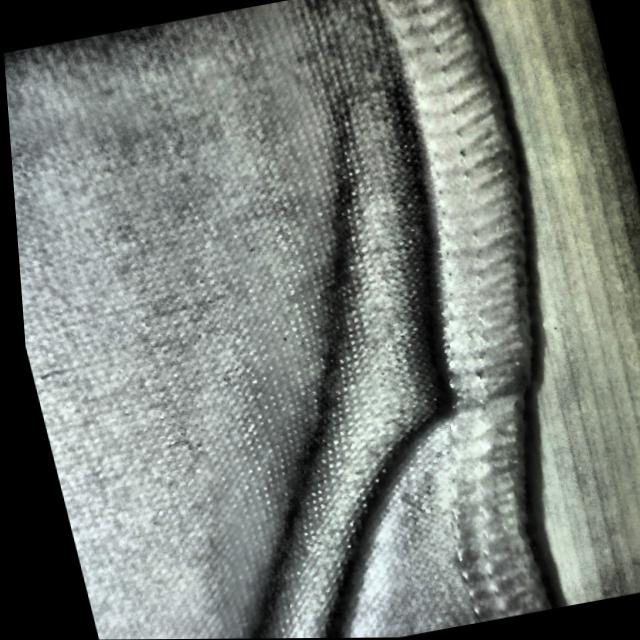seam: (258, 233, 567, 531)
